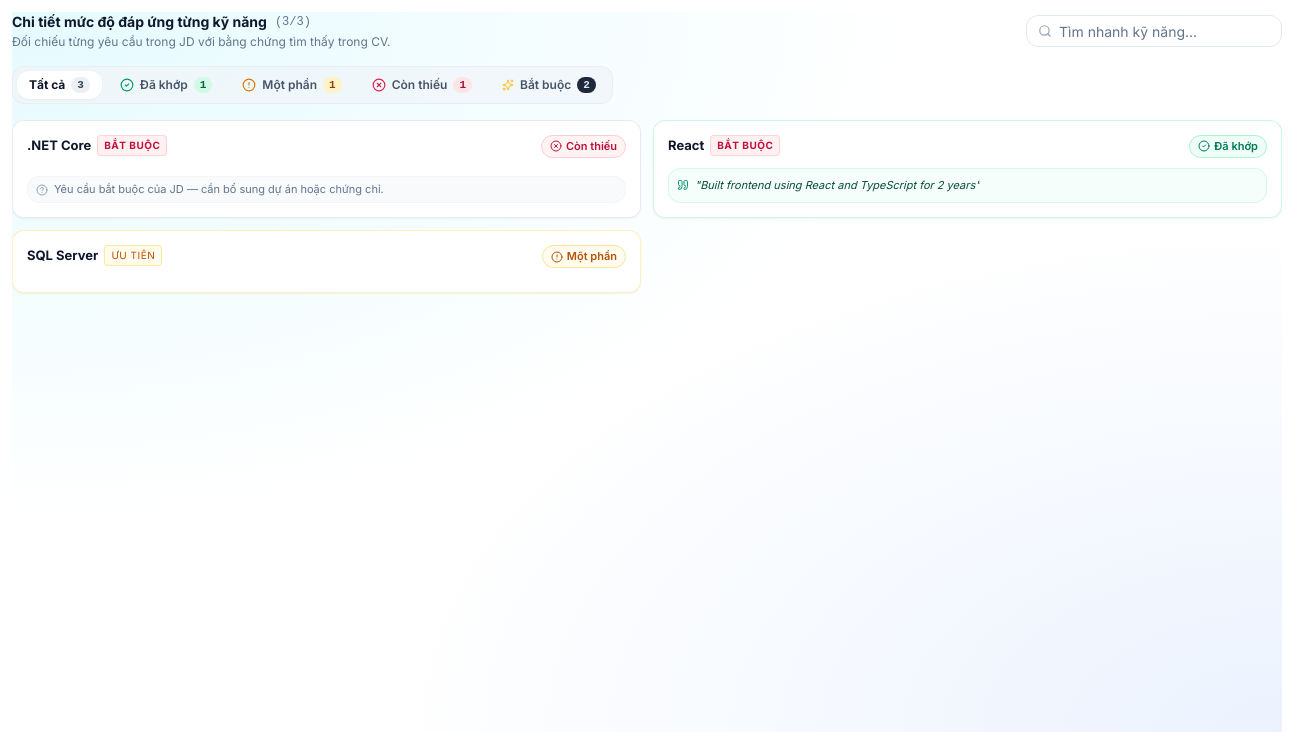
it: MatchSkillsMatrix › filters by matched status when clicking matched tab
The width and height of the screenshot is (1292, 732).
Click the button "Đã khớp 1". click: (166, 85)
box: top-left (108, 71), bottom-right (224, 99)
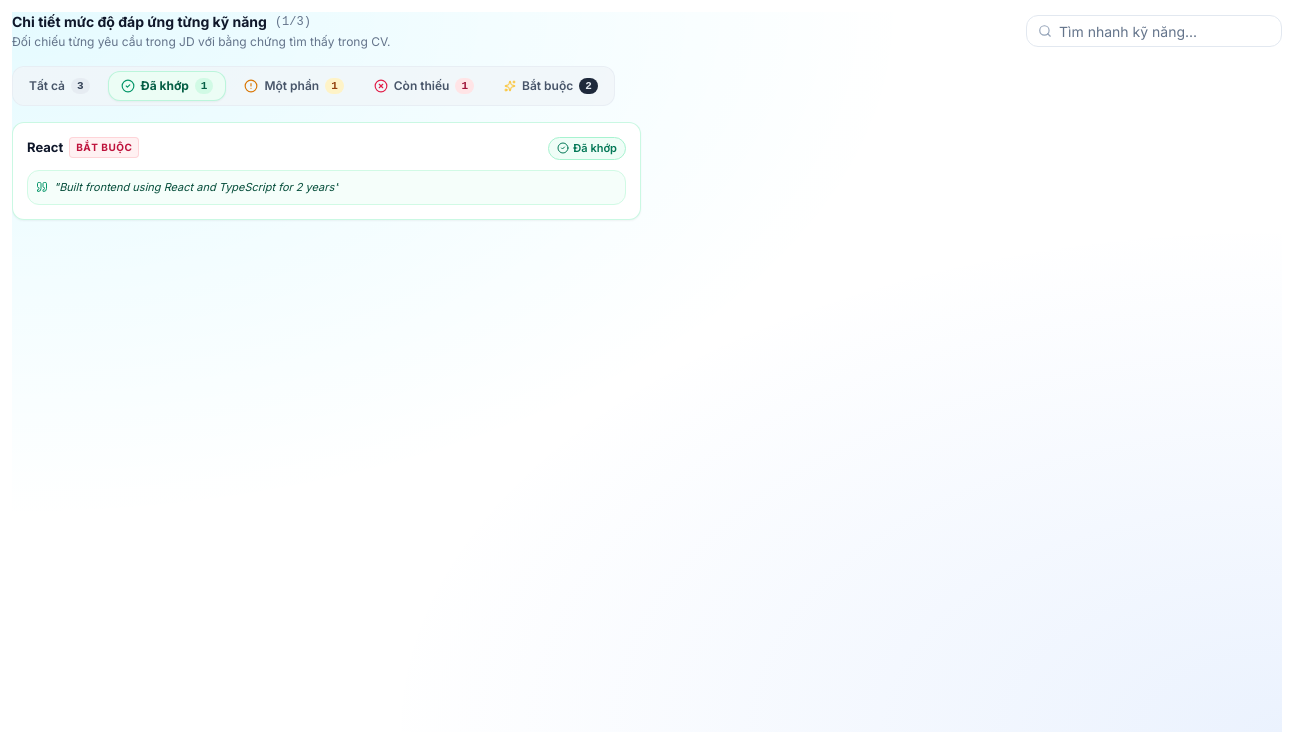
Expected: the text "React" is shown, top-left (27, 139), bottom-right (63, 156)
Expected: the text ".NET Core" is gone
Expected: the text "SQL Server" is gone
